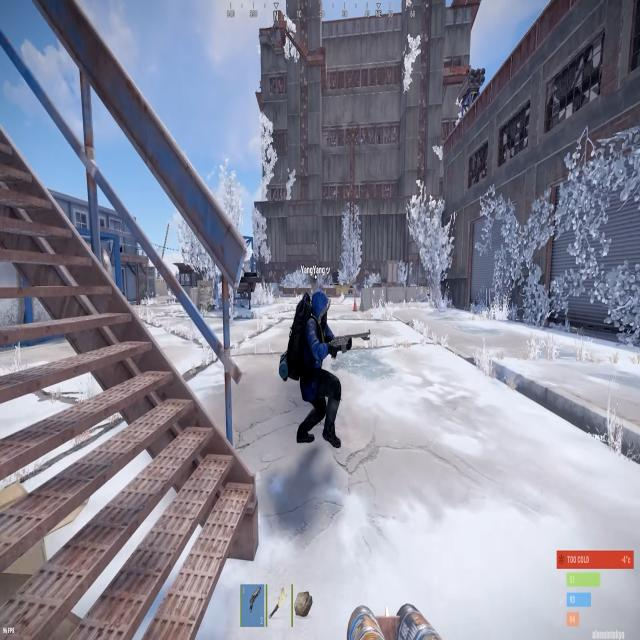Player: (277, 284, 350, 456)
